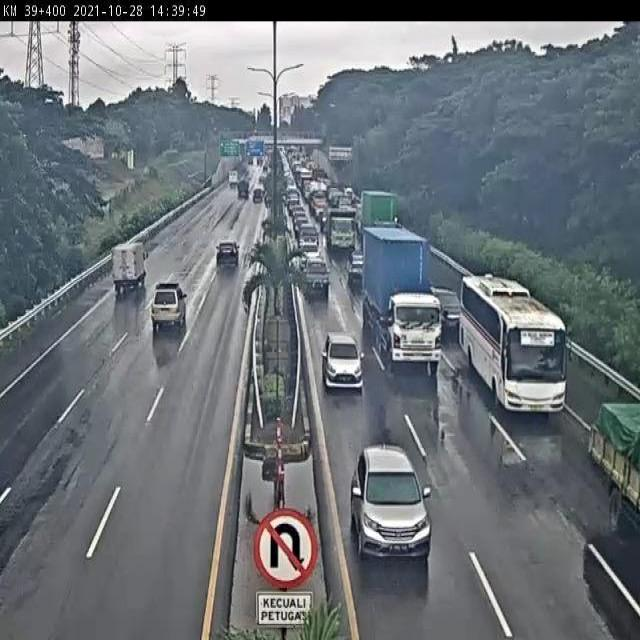big bus: (461, 267, 567, 409)
big truck: (362, 225, 442, 364)
car: (351, 442, 430, 562), (320, 335, 360, 393), (149, 282, 190, 330), (434, 283, 465, 333), (300, 256, 333, 299), (295, 222, 320, 254), (216, 240, 243, 269), (346, 249, 363, 287)
mid truck: (322, 207, 358, 252)
small truck: (113, 241, 148, 295)
